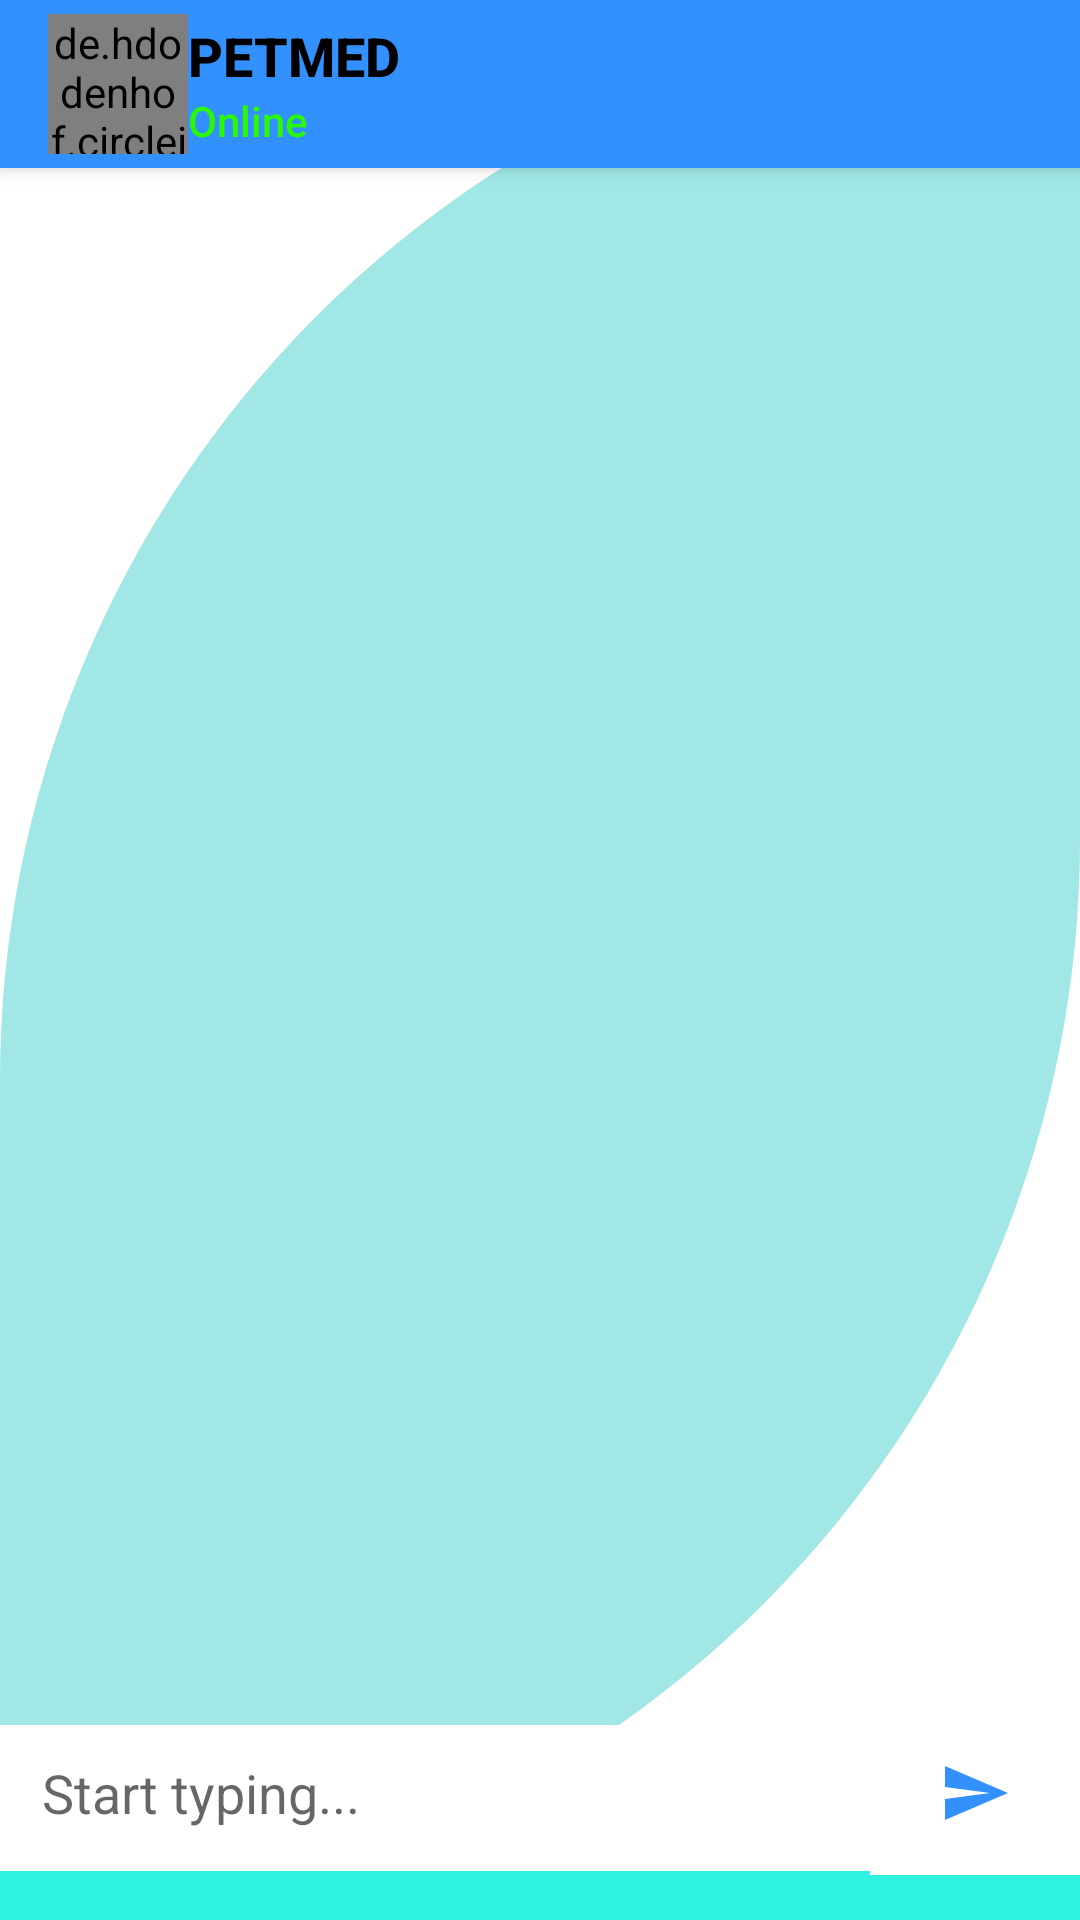

Point at icon controls on the screen. Image size 1080*1920, points as [x,y].
send: [976,1793]
